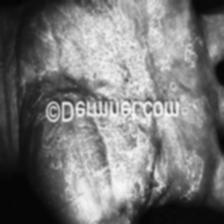Non-Cancerous Skin Condition: (106, 118, 152, 189), (91, 32, 147, 86), (176, 152, 204, 202), (182, 28, 204, 70)
